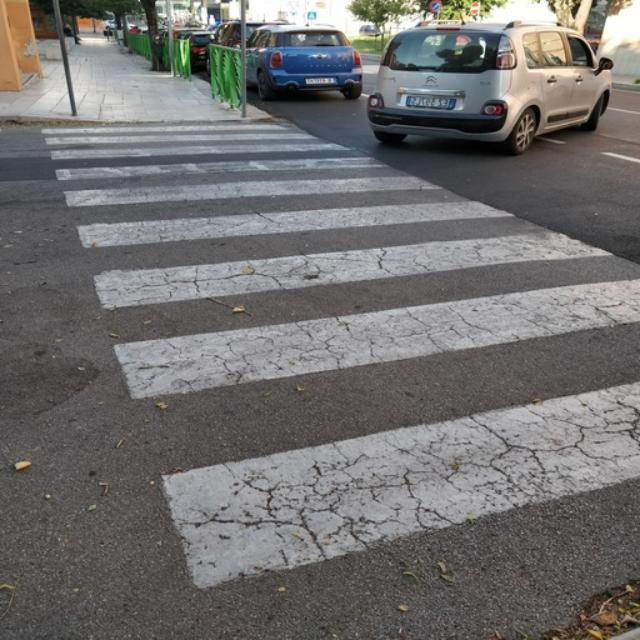sidewalk: (32, 117, 640, 640)
